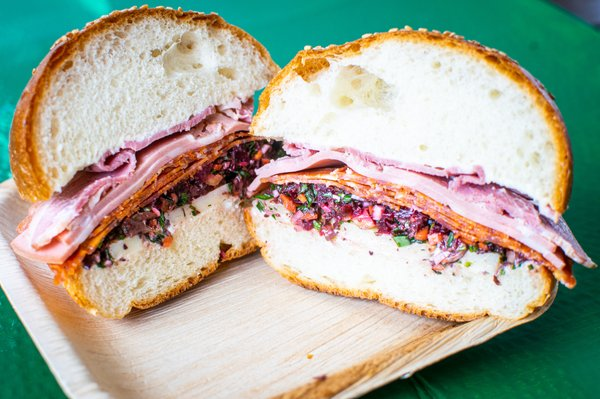soup: (248, 28, 588, 324), (7, 7, 283, 319)
